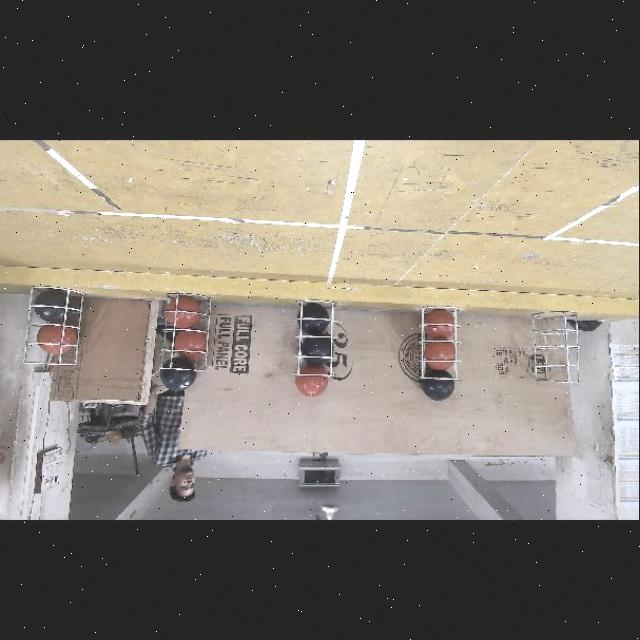P: (159, 357, 196, 392), (34, 290, 67, 324), (422, 370, 455, 402), (299, 303, 330, 335), (301, 337, 331, 366)
R: (37, 326, 78, 355), (166, 297, 200, 330), (295, 366, 330, 398), (175, 331, 207, 360), (425, 310, 455, 340), (425, 343, 455, 370)
S: (20, 288, 91, 374), (416, 302, 468, 386), (158, 293, 212, 373), (534, 310, 584, 386), (296, 298, 334, 380)
